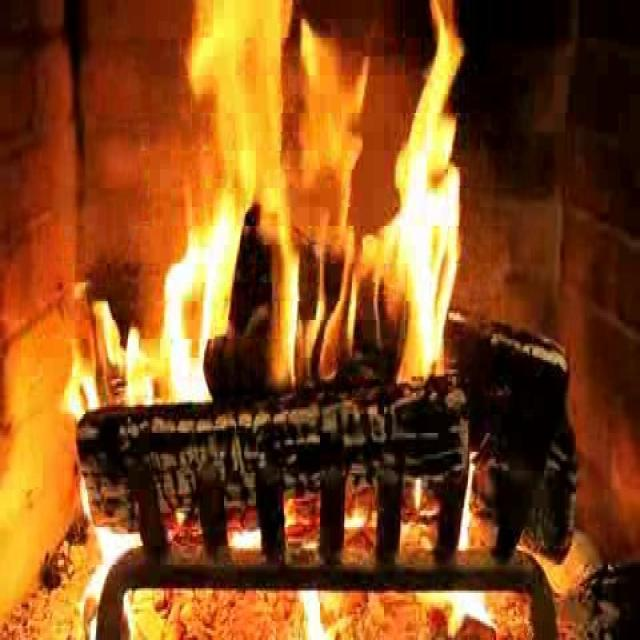Fire: (140, 23, 474, 420)
